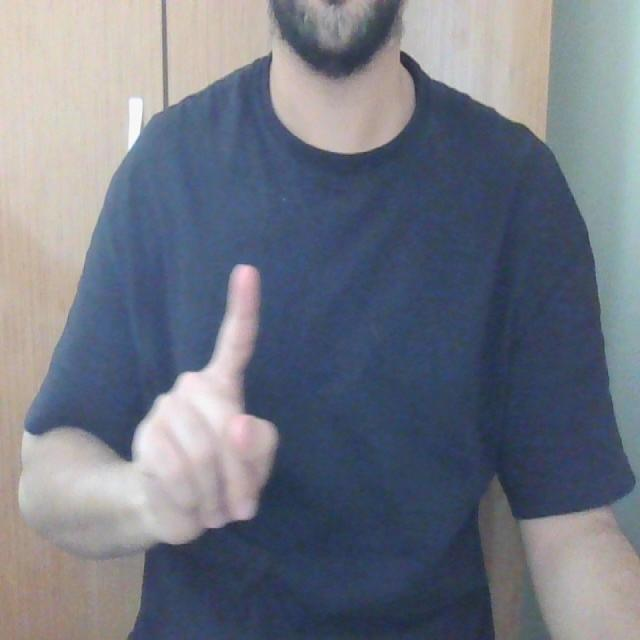Hayir: (122, 216, 279, 580)
